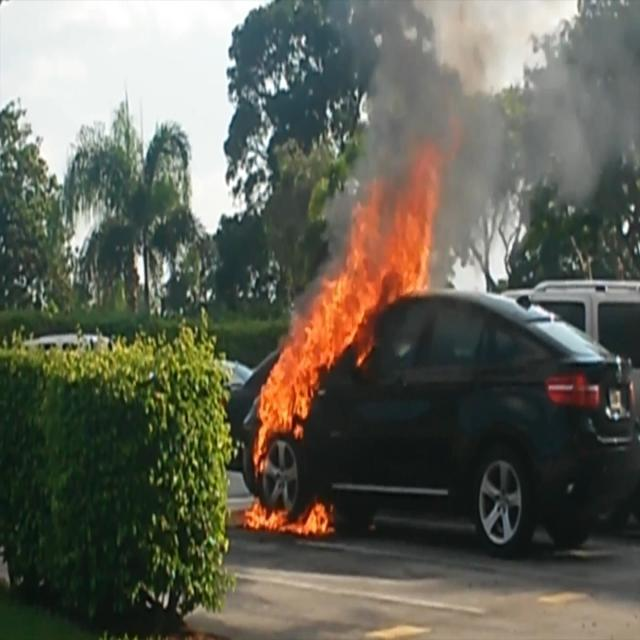fire: (240, 170, 446, 539)
